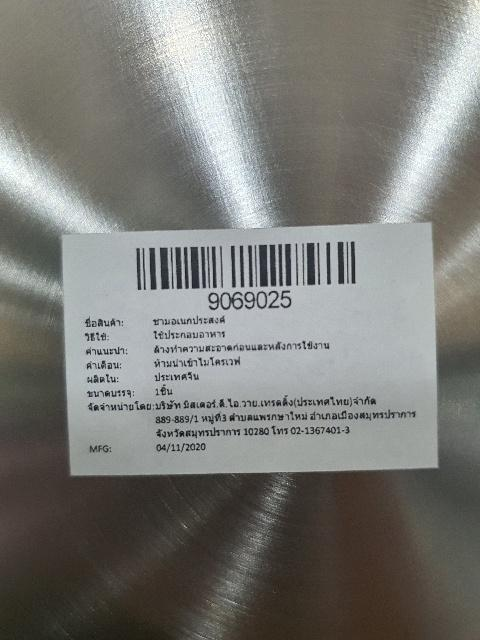Barcode: (128, 235, 363, 319)
